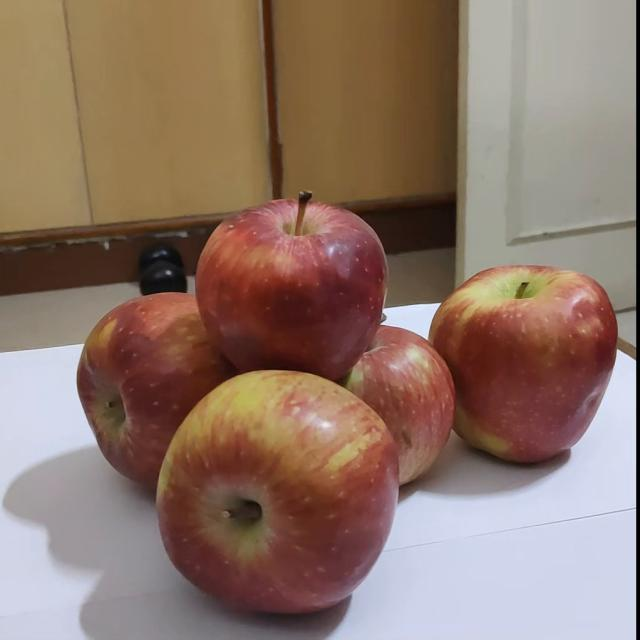apple: (177, 360, 427, 616), (362, 250, 624, 469), (87, 290, 287, 501), (200, 169, 396, 370)
